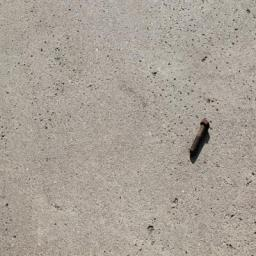FOD: (187, 116, 213, 167)
